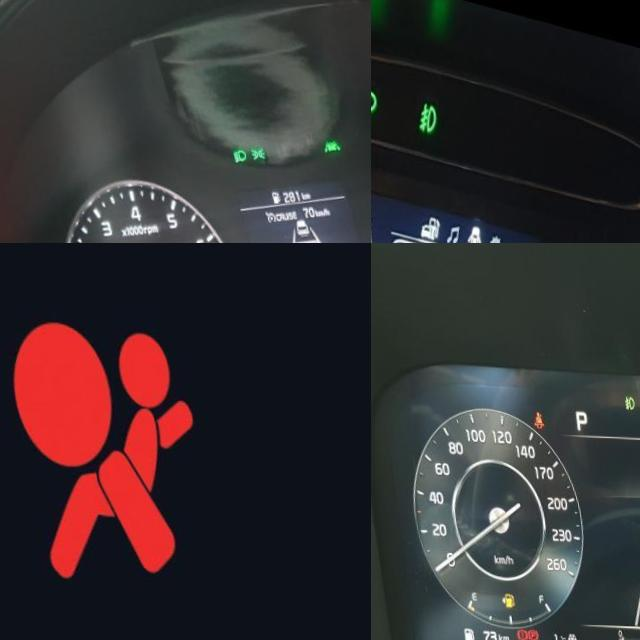FrontFogLight: (411, 97, 438, 133), (618, 392, 630, 408)
Low beam: (225, 145, 241, 161)
Low fuel level: (494, 591, 505, 607)
SideLamp: (243, 143, 259, 158)
